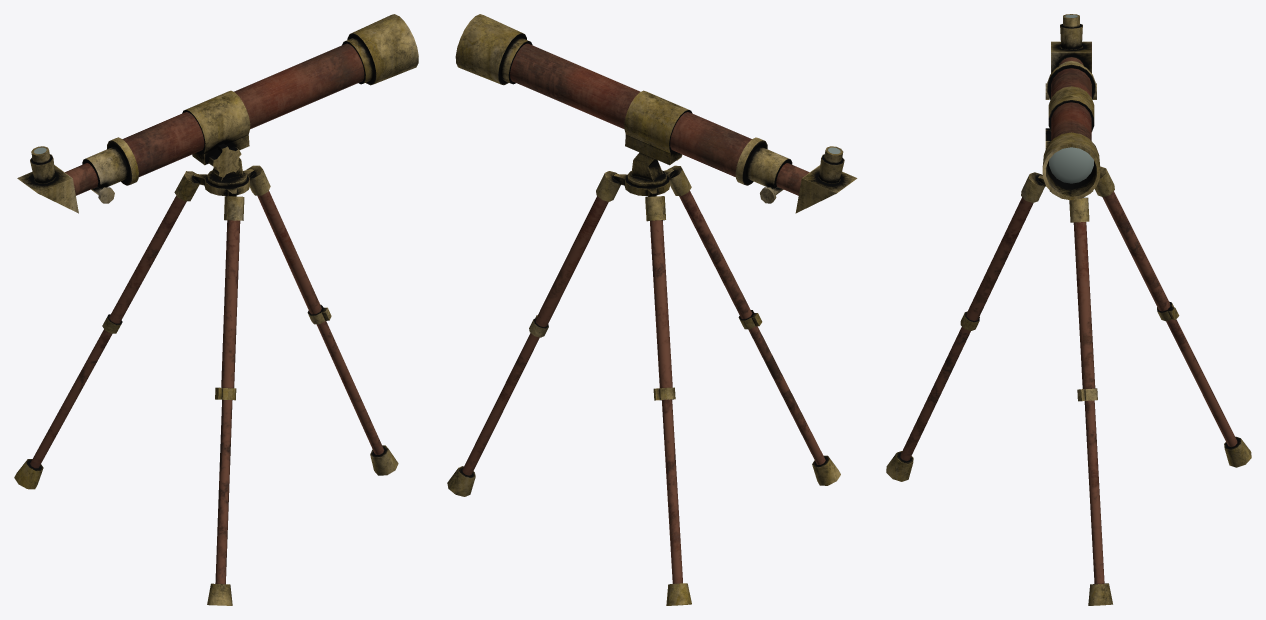
Rendered from telescope.obj.
The picture shows the model from 3 angles, left to right: view 1: azimuth 30°, elevation 25°; view 2: azimuth 150°, elevation 25°; view 3: azimuth 270°, elevation 25°; orthographic projection.
Parts seen in each view (by area): view 1: telescope_telescope_0; view 2: telescope_telescope_0; view 3: telescope_telescope_0.
Part boxes in pixels (box(x1,y1,x2,y2)): telescope_telescope_0: box(14, 14, 418, 605); telescope_telescope_0: box(447, 14, 857, 605); telescope_telescope_0: box(886, 14, 1251, 605).
Bounding box in the file's own units: 181 × 210 × 150.
1 material, 1 textured.
